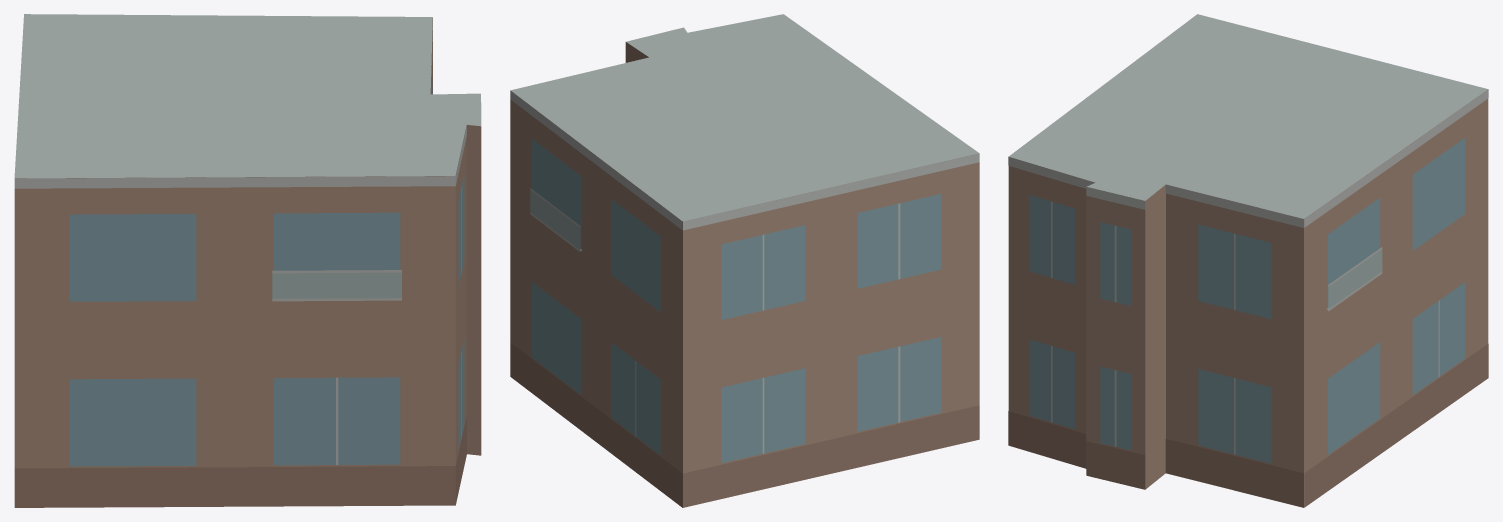
Rendered from survey-upis-32539757.glb.
3 renders of one model, left to right at view 1: azimuth 30°, elevation 25°; view 2: azimuth 150°, elevation 25°; view 3: azimuth 270°, elevation 25°, orthographic. The views are drawn at different scales.
Visible parts, largest first — view 1: survey-upis-32539757.tmp; view 2: survey-upis-32539757.tmp; view 3: survey-upis-32539757.tmp.
Boxes of the visible parts, left/top/right/bottom form: survey-upis-32539757.tmp: left=14, top=14, right=481, bottom=507; survey-upis-32539757.tmp: left=510, top=14, right=979, bottom=507; survey-upis-32539757.tmp: left=1008, top=14, right=1488, bottom=507.
Bounding box in the file's own units: 11.88 × 7.8 × 11.76.
